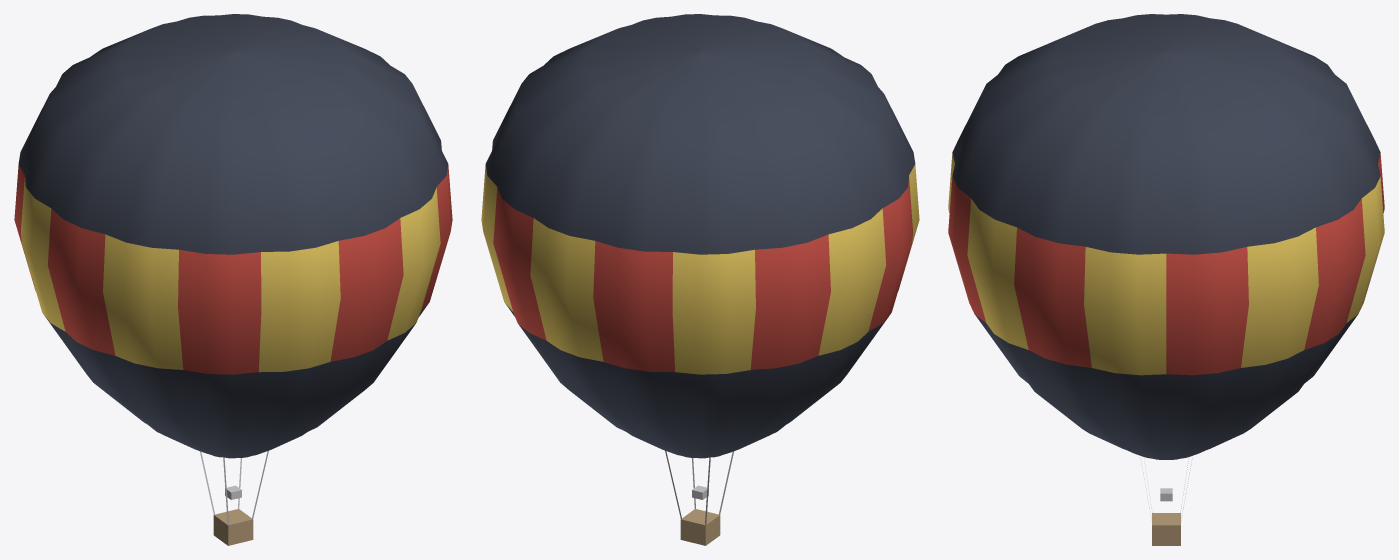
The model's file is balloon.glb.
3 views of the same model, side by side, from view 1: azimuth 30°, elevation 25°; view 2: azimuth 150°, elevation 25°; view 3: azimuth 270°, elevation 25° (orthographic).
Parts seen in each view (by area): view 1: balloon; view 2: balloon; view 3: balloon.
Part boxes in pixels (x1,y1,x2,y2): balloon: (14, 14, 452, 545); balloon: (481, 14, 919, 545); balloon: (948, 14, 1384, 545).
Size of the model in its own units: 21.07 by 26 by 21.07.
